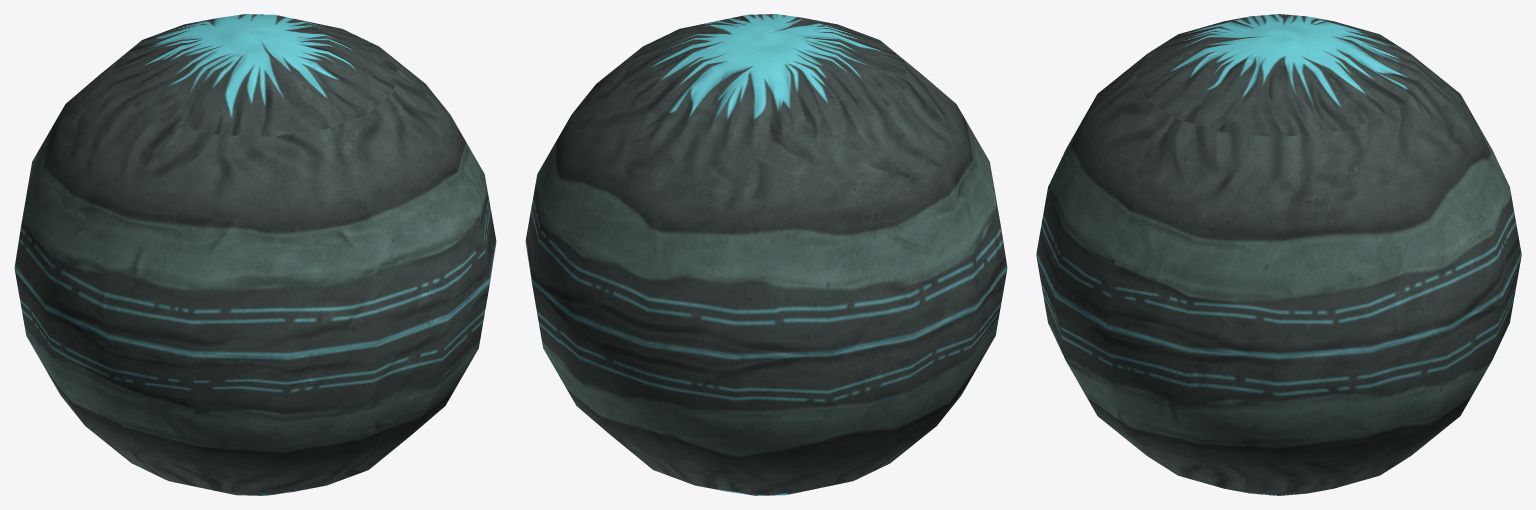
The model's file is smallOrbModel.fbx.
3 views of the same model, side by side, from view 1: azimuth 30°, elevation 25°; view 2: azimuth 150°, elevation 25°; view 3: azimuth 270°, elevation 25° (orthographic).
Visible parts, largest first — view 1: polySurface3; view 2: polySurface3; view 3: polySurface3.
Boxes of the visible parts, left/top/right/bottom form: polySurface3: left=14, top=14, right=496, bottom=495; polySurface3: left=525, top=14, right=1007, bottom=495; polySurface3: left=1036, top=14, right=1521, bottom=495.
Bounding box in the file's own units: 19.62 × 19.62 × 19.62.
